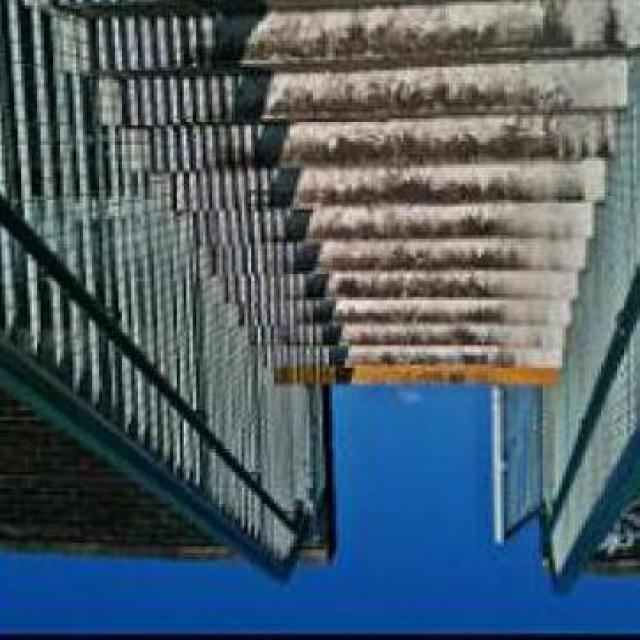Stairs: (86, 18, 634, 500)
